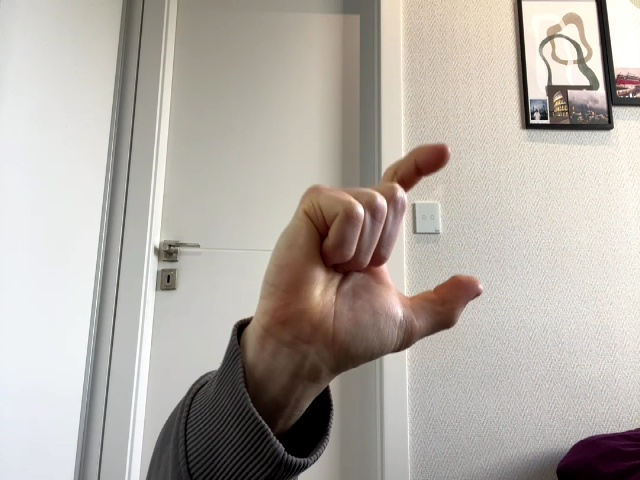C: (257, 144, 483, 374)
